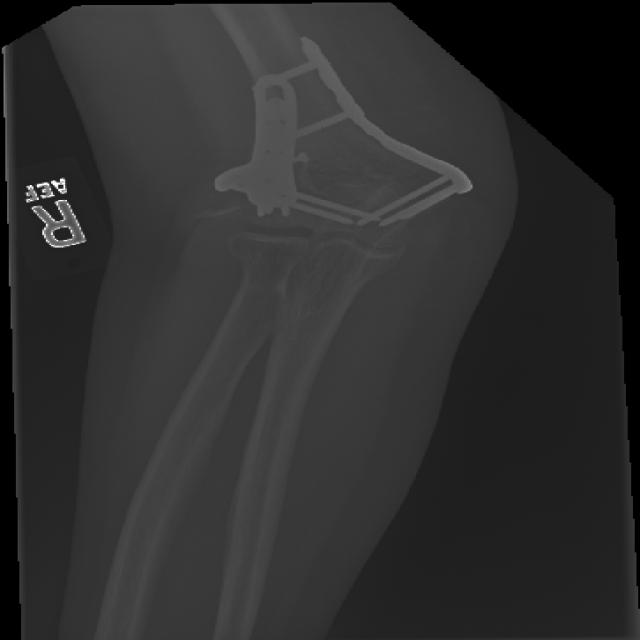elbow positive: (295, 36, 480, 249)
